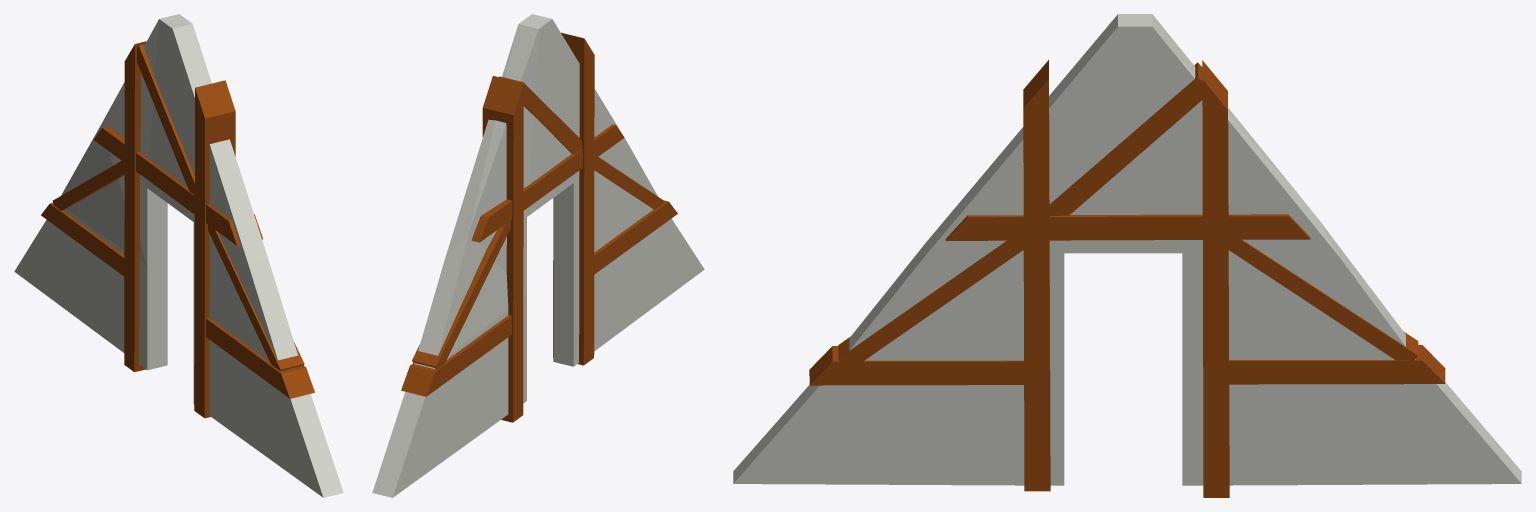
Rendered from NormalRoofWallDoored1.fbx.
3 views of the same model, side by side, from view 1: azimuth 30°, elevation 25°; view 2: azimuth 150°, elevation 25°; view 3: azimuth 270°, elevation 25° (orthographic). The views are drawn at different scales.
Parts seen in each view (by area): view 1: NormalRoofWallDoored1; view 2: NormalRoofWallDoored1; view 3: NormalRoofWallDoored1.
Part boxes in pixels (left/top/right/bottom): NormalRoofWallDoored1: left=14, top=14, right=343, bottom=497; NormalRoofWallDoored1: left=372, top=14, right=704, bottom=497; NormalRoofWallDoored1: left=733, top=14, right=1521, bottom=497.
Bounding box in the file's own units: 114 × 1304 × 1993.
